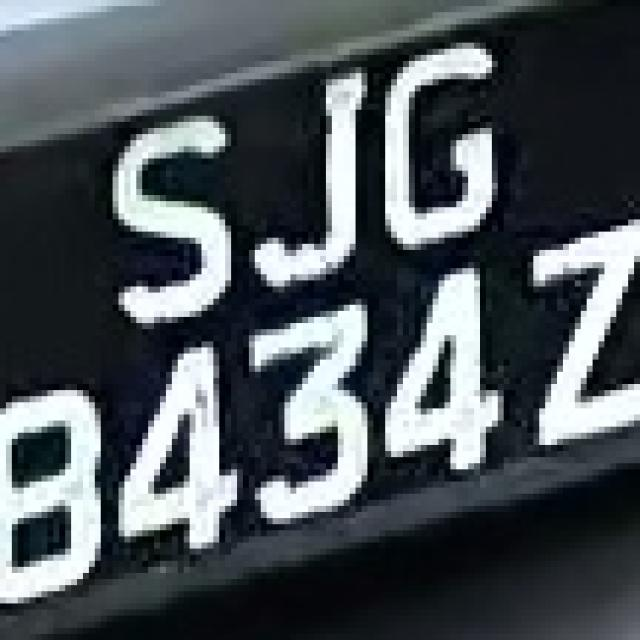3: (237, 299, 385, 536)
4: (101, 323, 249, 555), (373, 250, 504, 481)
8: (12, 354, 118, 622)
G: (373, 18, 504, 244)
J: (220, 55, 380, 286)
S: (95, 97, 237, 317)
Z: (516, 195, 634, 469)
